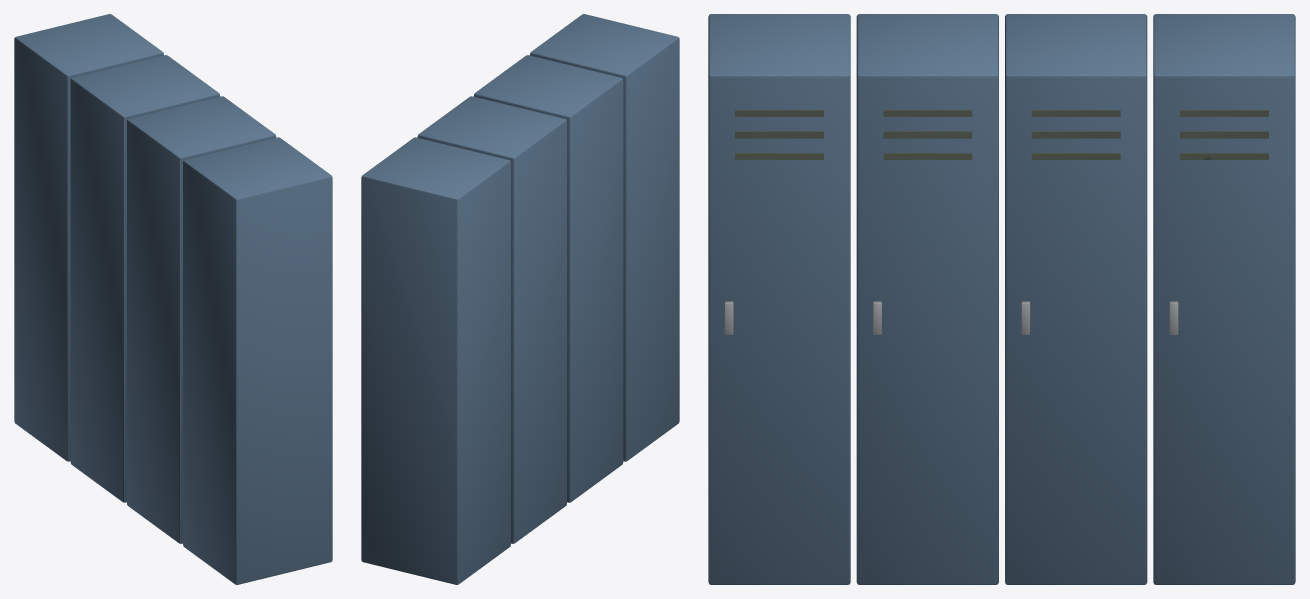
The model's file is lockers.glb.
3 views of the same model, side by side, from view 1: azimuth 30°, elevation 25°; view 2: azimuth 150°, elevation 25°; view 3: azimuth 270°, elevation 25° (orthographic). The views are drawn at different scales.
Visible parts, largest first — view 1: boat_paint_blue; view 2: boat_paint_blue; view 3: boat_paint_blue, boat_bulk, boat_steel.
Boxes of the visible parts, x1,y1,x2,y2 form: boat_paint_blue: (14,14,332,584); boat_paint_blue: (361,14,679,584); boat_paint_blue: (708,14,1295,584); boat_bulk: (735,110,1268,159); boat_steel: (724,301,1178,334).
Size of the model in its own units: 0.515 by 1.9 by 1.98.
3 materials, 1 textured.
